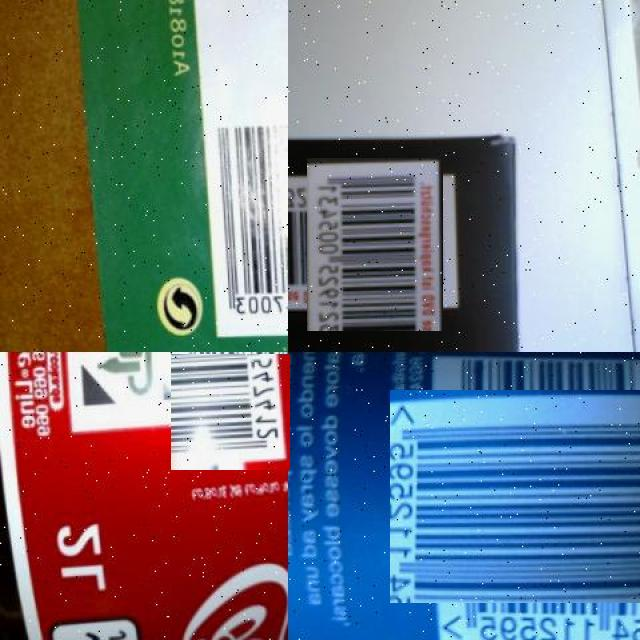Barcode: (408, 372, 640, 622), (297, 167, 452, 322), (209, 93, 288, 335), (171, 353, 289, 471)
